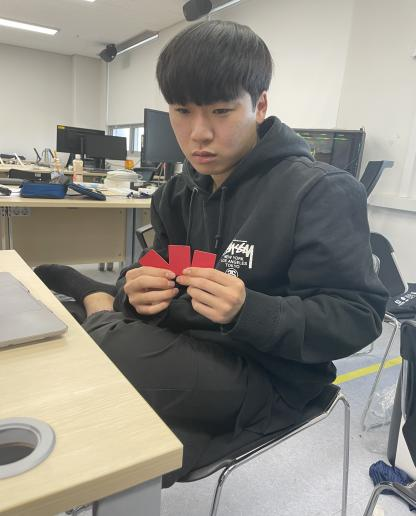ThreeHwatoo: (132, 235, 218, 280)
